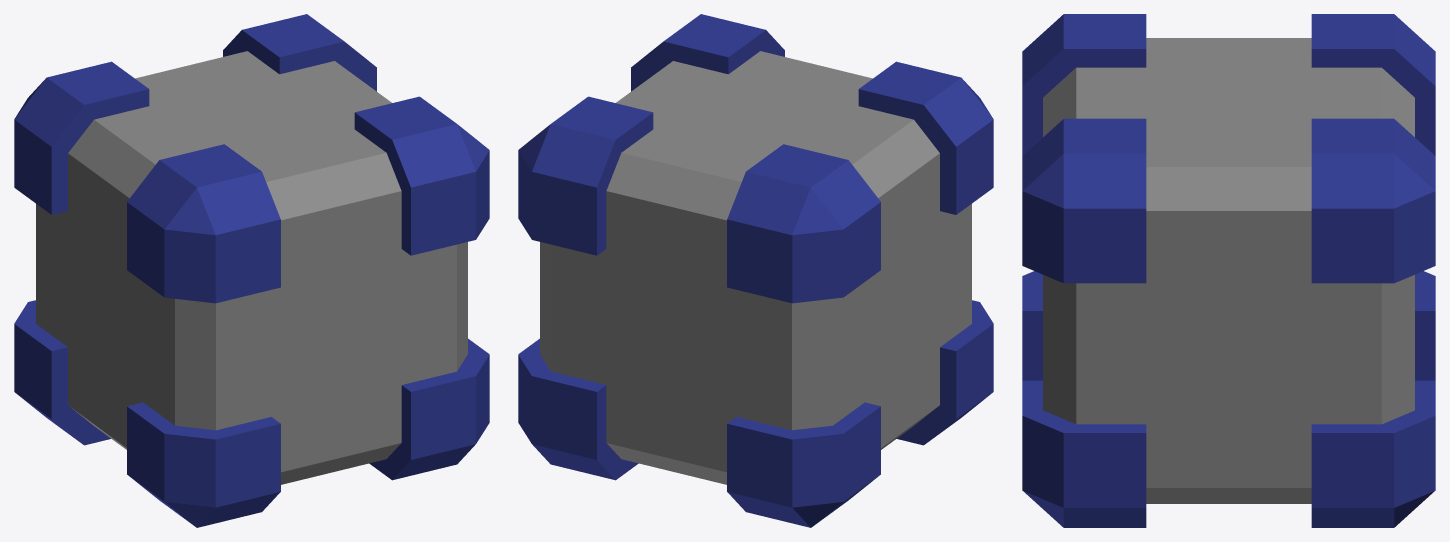
Rendered from SafeBox v1.fbx.
The picture shows the model from 3 angles, left to right: view 1: azimuth 30°, elevation 25°; view 2: azimuth 150°, elevation 25°; view 3: azimuth 270°, elevation 25°; orthographic projection. The views are drawn at different scales.
Visible parts, largest first — view 1: Body9, Body1; view 2: Body9, Body1; view 3: Body9, Body1.
Part boxes in pixels (left/top/right/bottom): Body9: left=36, top=51, right=467, bottom=484; Body1: left=14, top=14, right=489, bottom=527; Body9: left=540, top=51, right=971, bottom=484; Body1: left=518, top=14, right=993, bottom=527; Body9: left=1043, top=38, right=1414, bottom=503; Body1: left=1022, top=14, right=1435, bottom=527.
Bounding box in the file's own units: 1 × 1 × 1.
